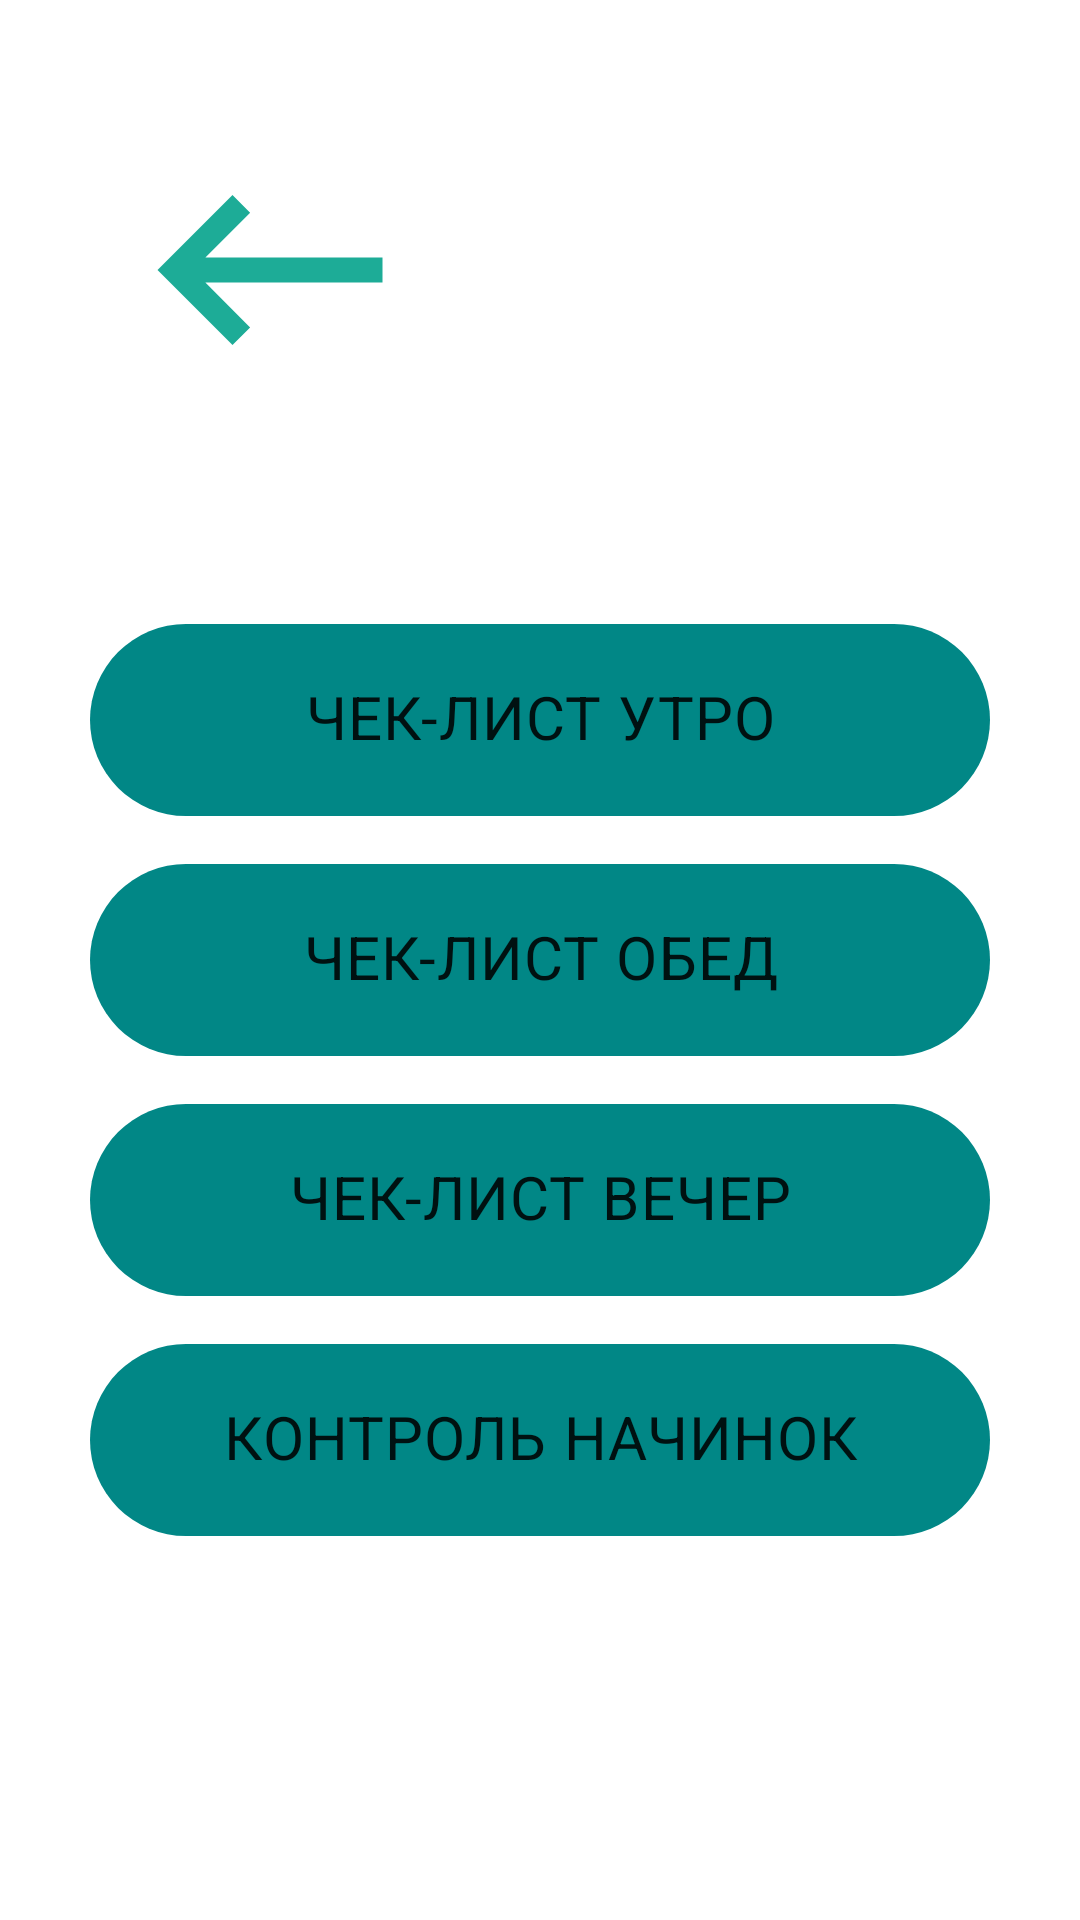

Icon click points for this 1080w x 1920h phone screenshot, format (x=x, y=y):
keyboard backspace: (x=270, y=270)
